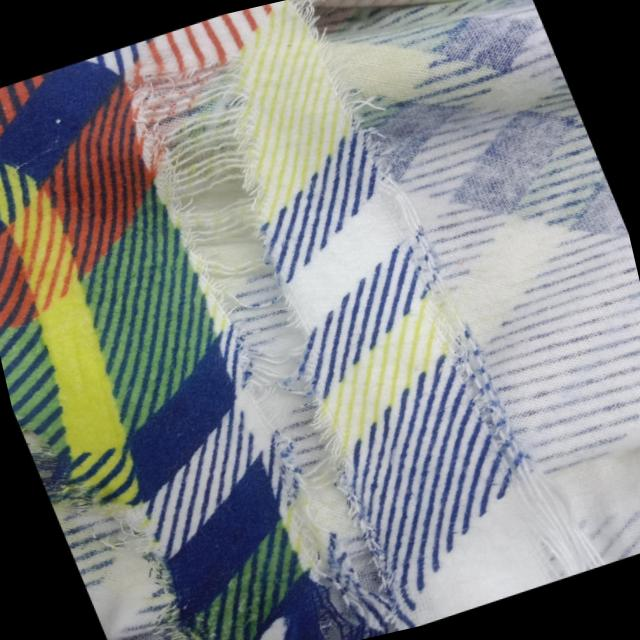cut: (84, 15, 446, 640), (283, 0, 627, 347), (12, 360, 259, 640)
